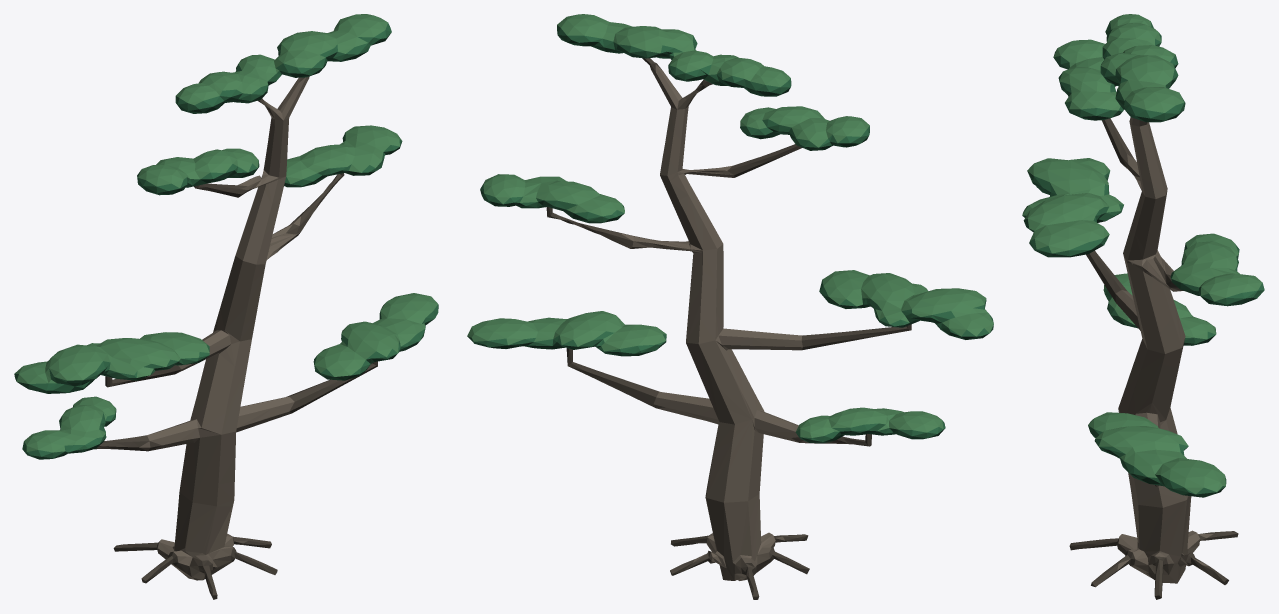
File: ancient-pine-4110-lod0.glb
3 views of the same model, side by side, from view 1: azimuth 30°, elevation 25°; view 2: azimuth 150°, elevation 25°; view 3: azimuth 270°, elevation 25° (orthographic). The views are drawn at different scales.
Visible parts, largest first — view 1: n12.004, n8.004, n11.004, n9.004, n10.004; view 2: n12.004, n8.004, n11.004, n9.004, n10.004; view 3: n12.004, n8.004, n11.004, n9.004, n10.004.
Boxes of the visible parts, bbox=[...] form: n12.004: bbox=[15, 14, 437, 452]; n8.004: bbox=[139, 77, 309, 580]; n11.004: bbox=[14, 22, 438, 458]; n9.004: bbox=[94, 76, 377, 599]; n10.004: bbox=[23, 33, 433, 459]; n12.004: bbox=[467, 14, 993, 437]; n8.004: bbox=[615, 64, 809, 580]; n11.004: bbox=[467, 25, 993, 441]; n9.004: bbox=[546, 58, 911, 599]; n10.004: bbox=[468, 36, 988, 443]; n12.004: bbox=[1022, 14, 1262, 494]; n8.004: bbox=[1115, 117, 1213, 583]; n11.004: bbox=[1022, 21, 1264, 494]; n9.004: bbox=[1069, 118, 1238, 599]; n10.004: bbox=[1024, 33, 1256, 497].
Bounding box in the file's own units: 5.12 × 5.42 × 2.08.
